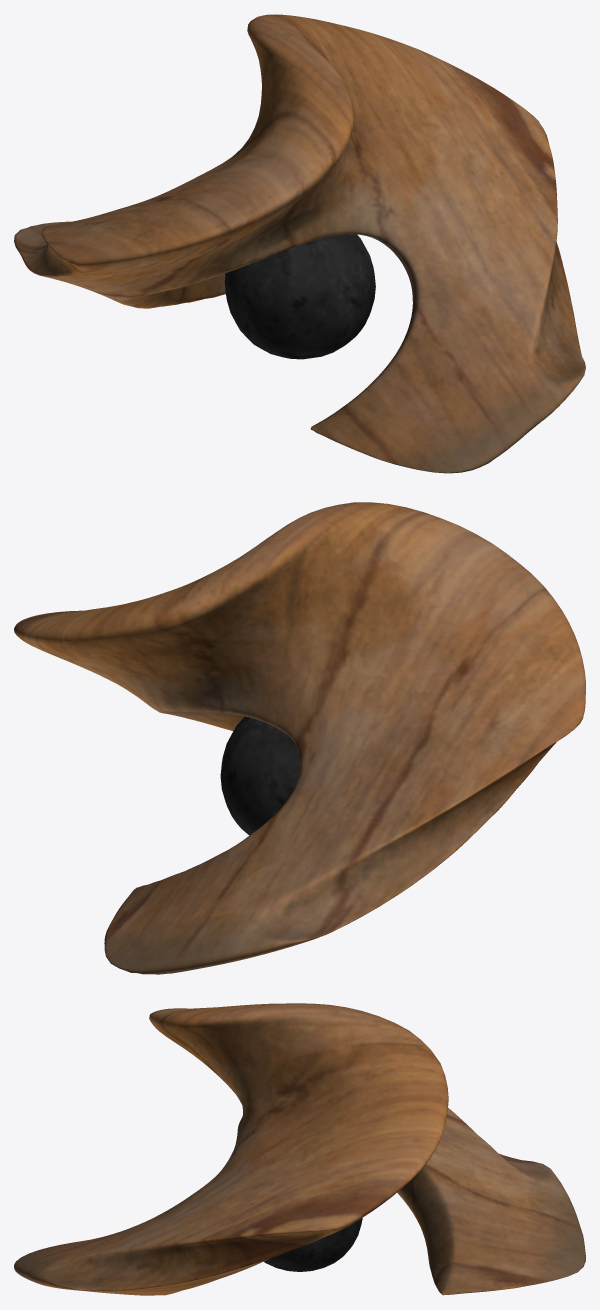
The model's file is Sculpture4.glb.
The picture shows the model from 3 angles, top to bottom: view 1: azimuth 30°, elevation 25°; view 2: azimuth 150°, elevation 25°; view 3: azimuth 270°, elevation 25°; orthographic projection. The views are drawn at different scales.
Parts seen in each view (by area): view 1: SM_Sculpture01; view 2: SM_Sculpture01; view 3: SM_Sculpture01.
Boxes of the visible parts, box(x1,y1,x2,y2) form: SM_Sculpture01: box(14, 14, 585, 473); SM_Sculpture01: box(14, 502, 585, 974); SM_Sculpture01: box(14, 1003, 585, 1295).
Size of the model in its own units: 1.42 by 0.8236 by 1.65.
1 material, 1 textured.
